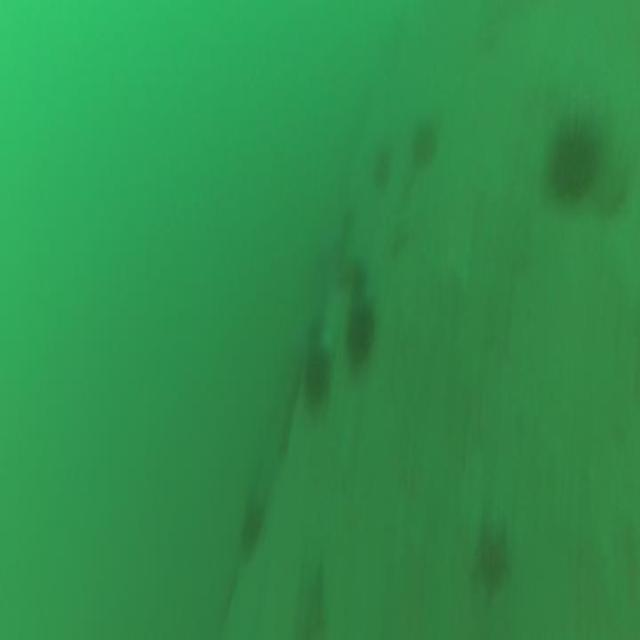echinus: (543, 106, 604, 216), (338, 286, 378, 371), (296, 332, 334, 419)
starfish: (465, 511, 515, 608), (290, 554, 329, 640)
